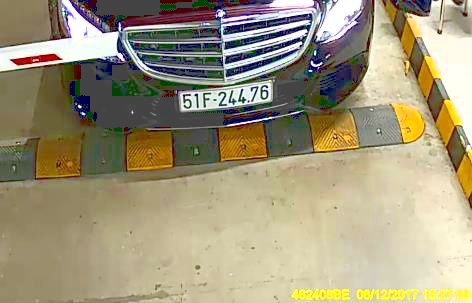plate: (176, 83, 276, 116)
